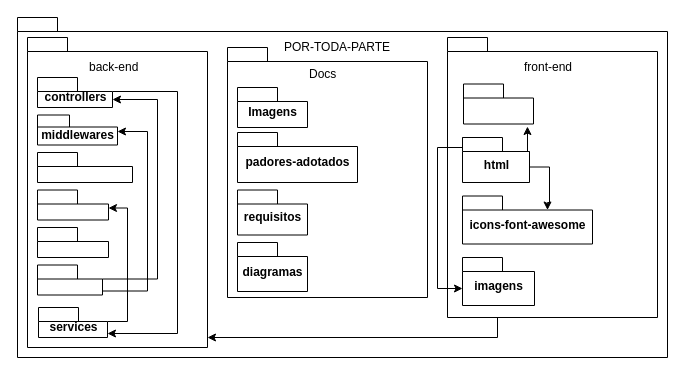
This 685x375 diagram has some shape labels left out. Here are the shapes that lost their labels. From the top down, the centre of each, then its label:
the point at 498,103: css
the point at 84,167: node_modules
the point at 72,204: Persistence
the point at 72,242: public
the point at 69,279: routes
